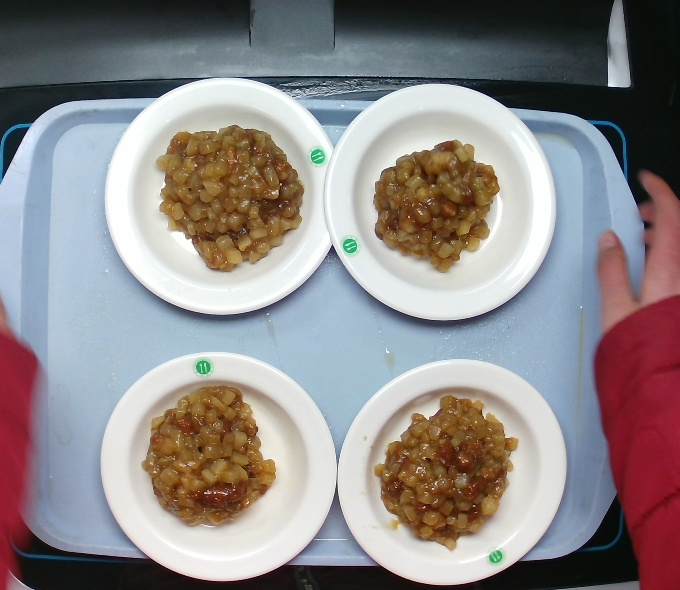wcq-RouYuan: (142, 109, 312, 277), (354, 117, 517, 282), (130, 376, 295, 537), (367, 382, 521, 549)
